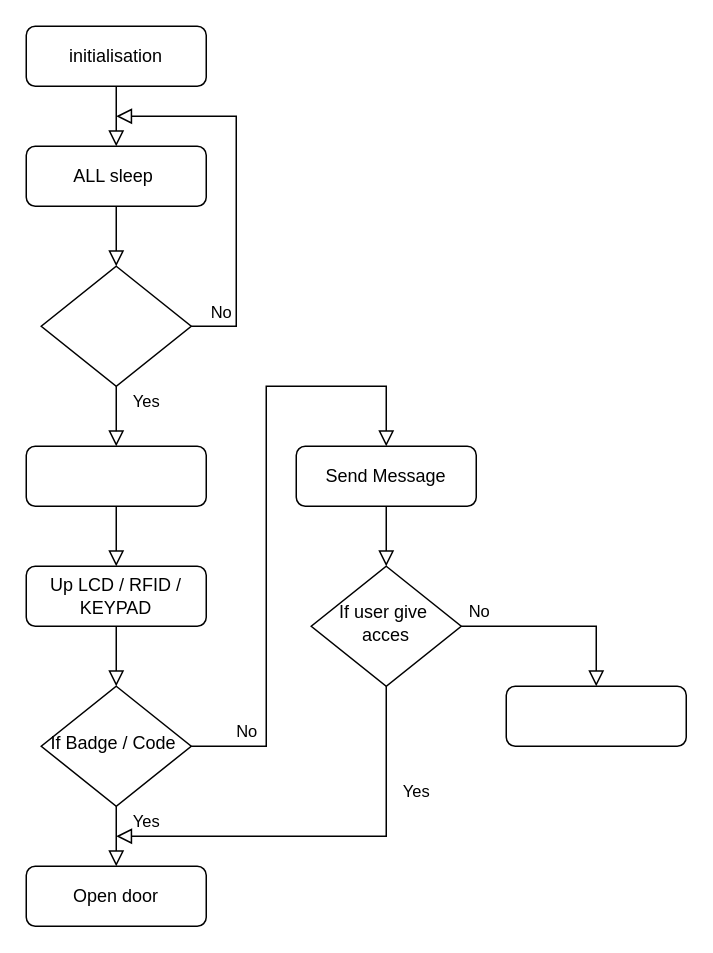
Image size: 713x953. Some labels were removed from this diagram. Each missing label, with the centre of its shape:
"Door lock" goes at point (595, 715).
"If element" goes at point (115, 325).
"Up move sensor" goes at point (115, 475).
